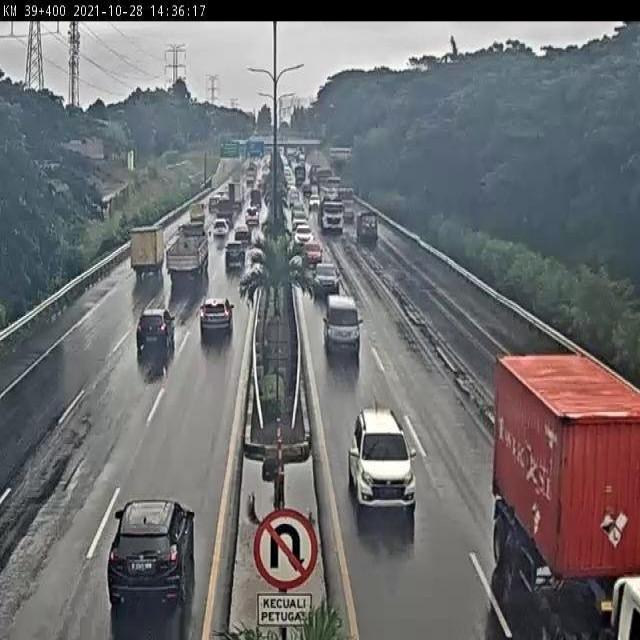big truck: (492, 350, 640, 640), (162, 225, 209, 287)
car: (104, 498, 200, 618), (349, 408, 418, 513), (321, 289, 359, 351), (137, 308, 176, 353), (198, 295, 233, 340), (311, 262, 341, 298), (223, 239, 245, 268), (301, 241, 324, 267), (293, 224, 314, 249), (232, 221, 252, 244), (211, 219, 230, 241)
small truck: (128, 224, 166, 281), (355, 212, 379, 241)
